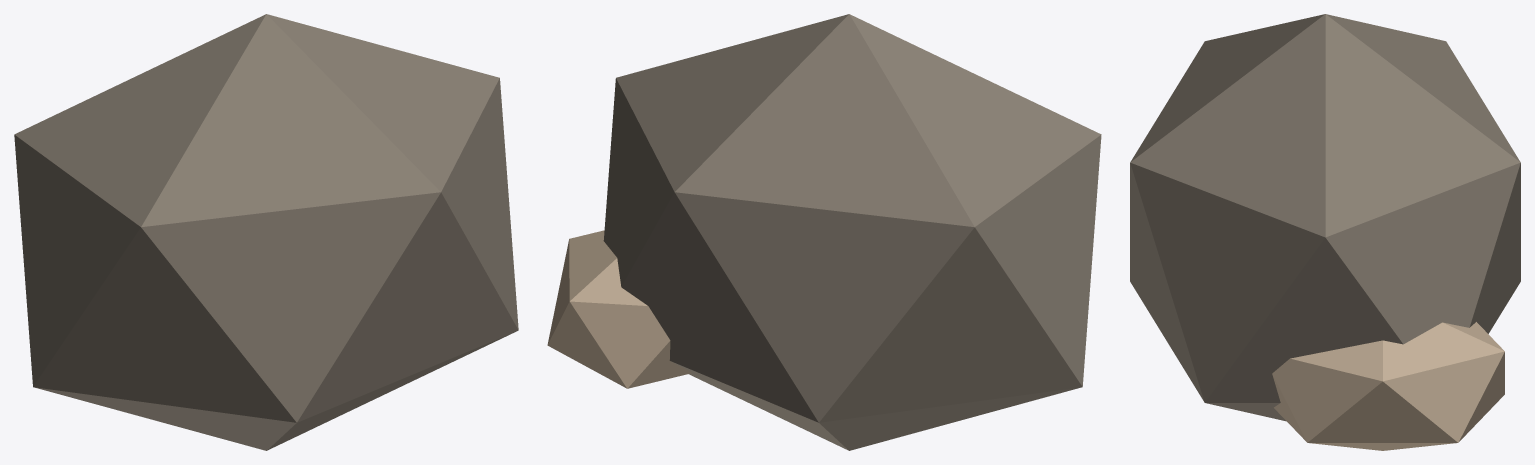
Rendered from rock.glb.
The picture shows the model from 3 angles, left to right: view 1: azimuth 30°, elevation 25°; view 2: azimuth 150°, elevation 25°; view 3: azimuth 270°, elevation 25°; orthographic projection. The views are drawn at different scales.
Visible parts, largest first — view 1: rock; view 2: rock; view 3: rock.
Boxes of the visible parts, <box> form: rock: <box>14,14,518,450</box>; rock: <box>547,14,1101,450</box>; rock: <box>1130,14,1520,450</box>.
Size of the model in its own units: 1.85 by 1.6 by 1.36.
